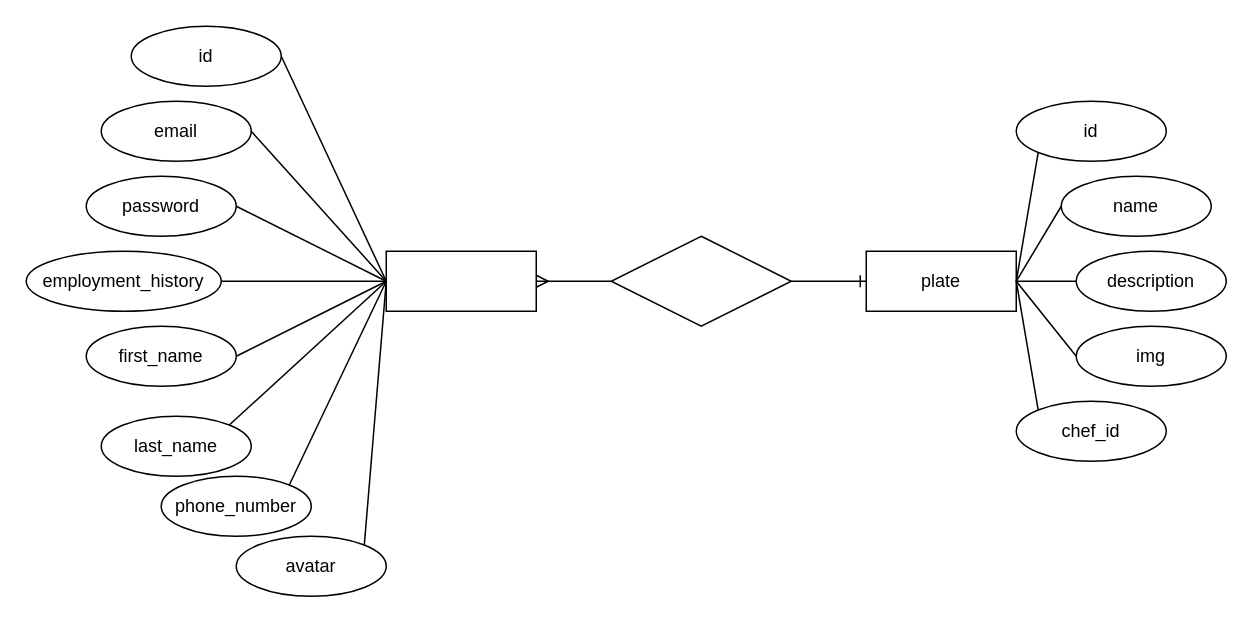
Some shapes in this 1253 by 623 pixel diagram are drawn without their labels. Each missing label, with the centre of its shape:
Chef: (460,280)
has: (700,280)
